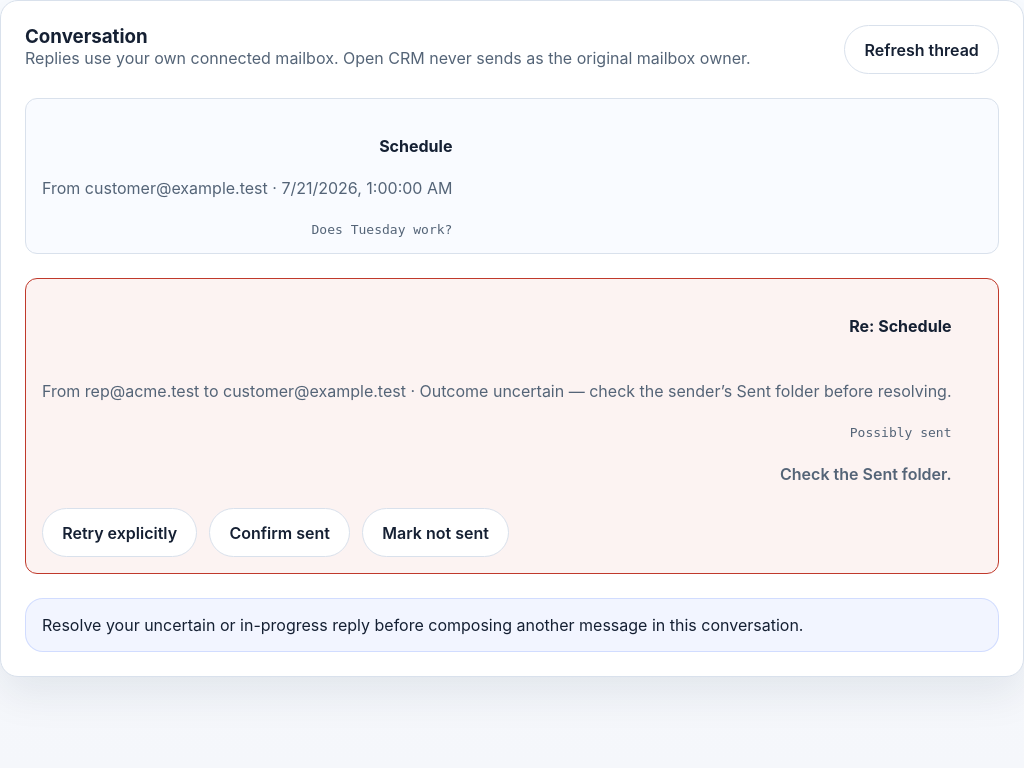
email conversation › requires explicit confirmation to resolve an uncertain send
Expected: the text "Outcome uncertain" is shown, [420,381,952,401]
Expected: the field labelled "reply to" is not shown
Click the button "Retry explicitly": point(120, 533) [42,508,197,558]
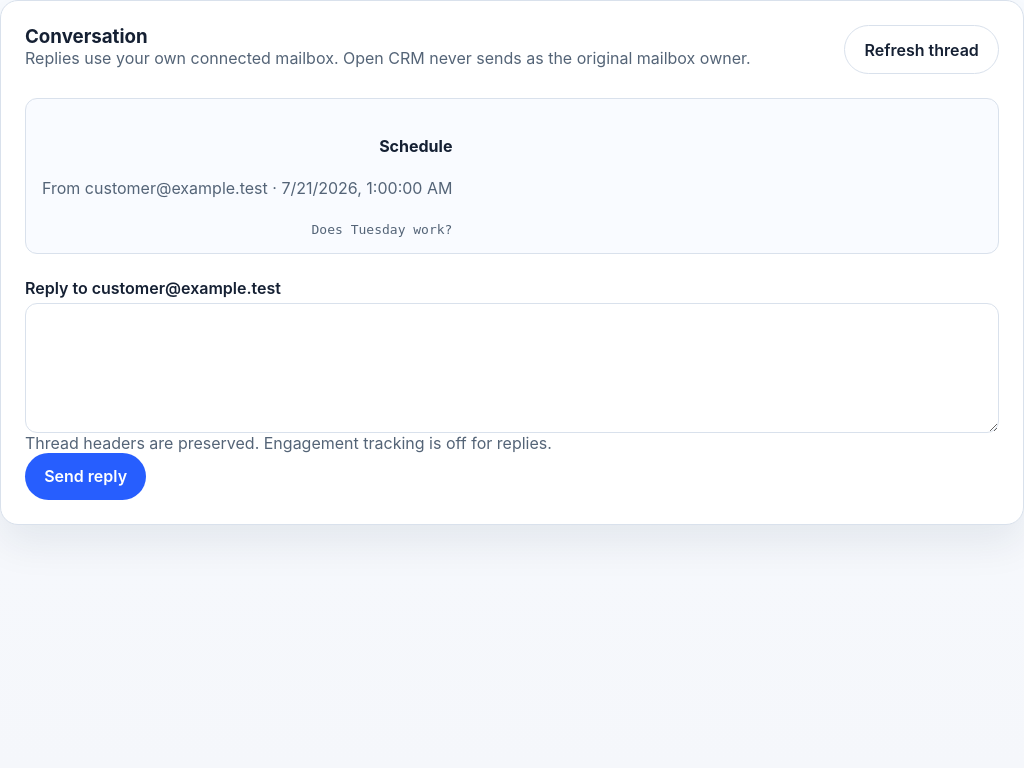
Now the text "Possibly sent" is gone
